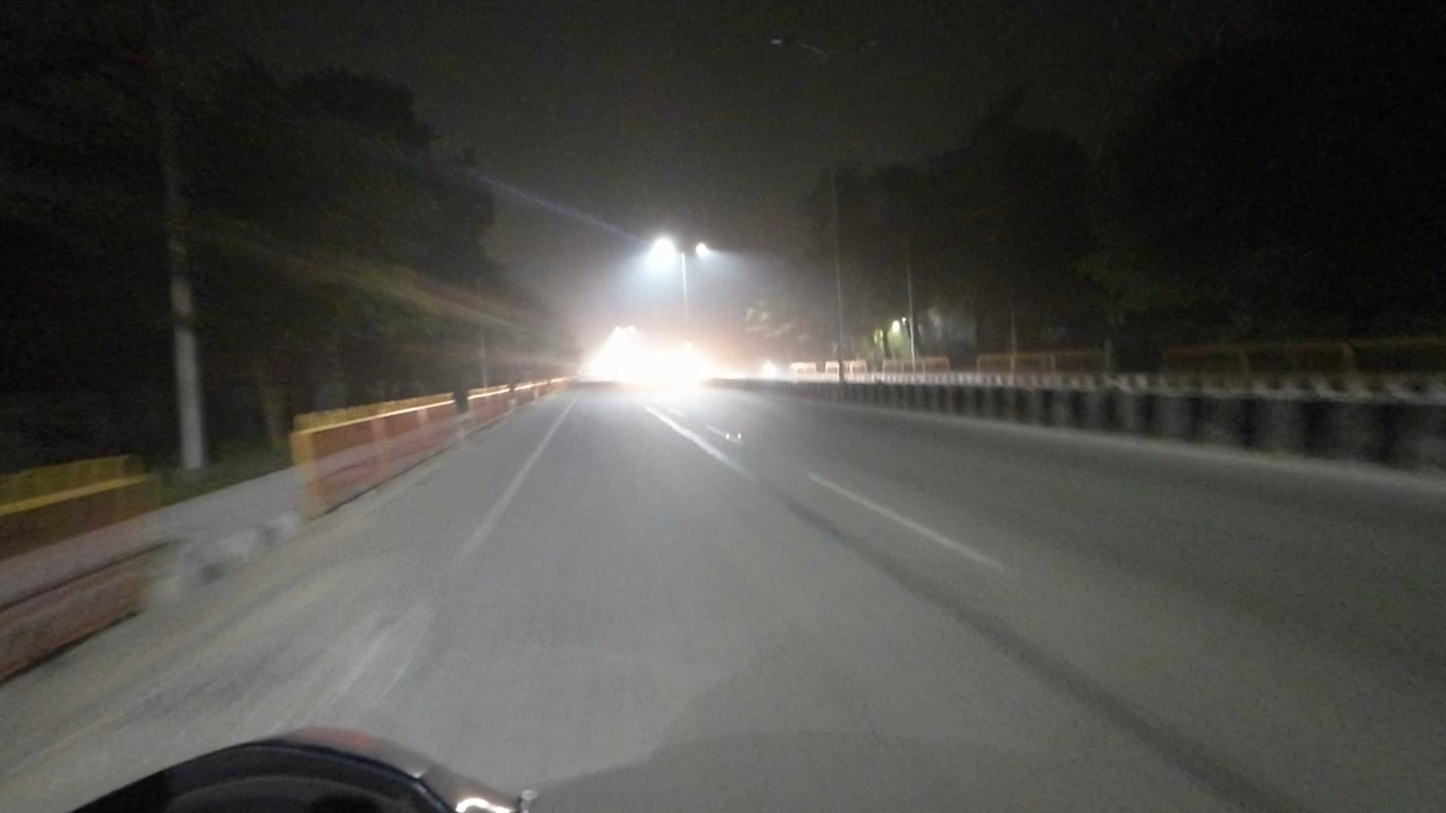streetlight: (769, 32, 824, 57), (831, 37, 878, 53)
